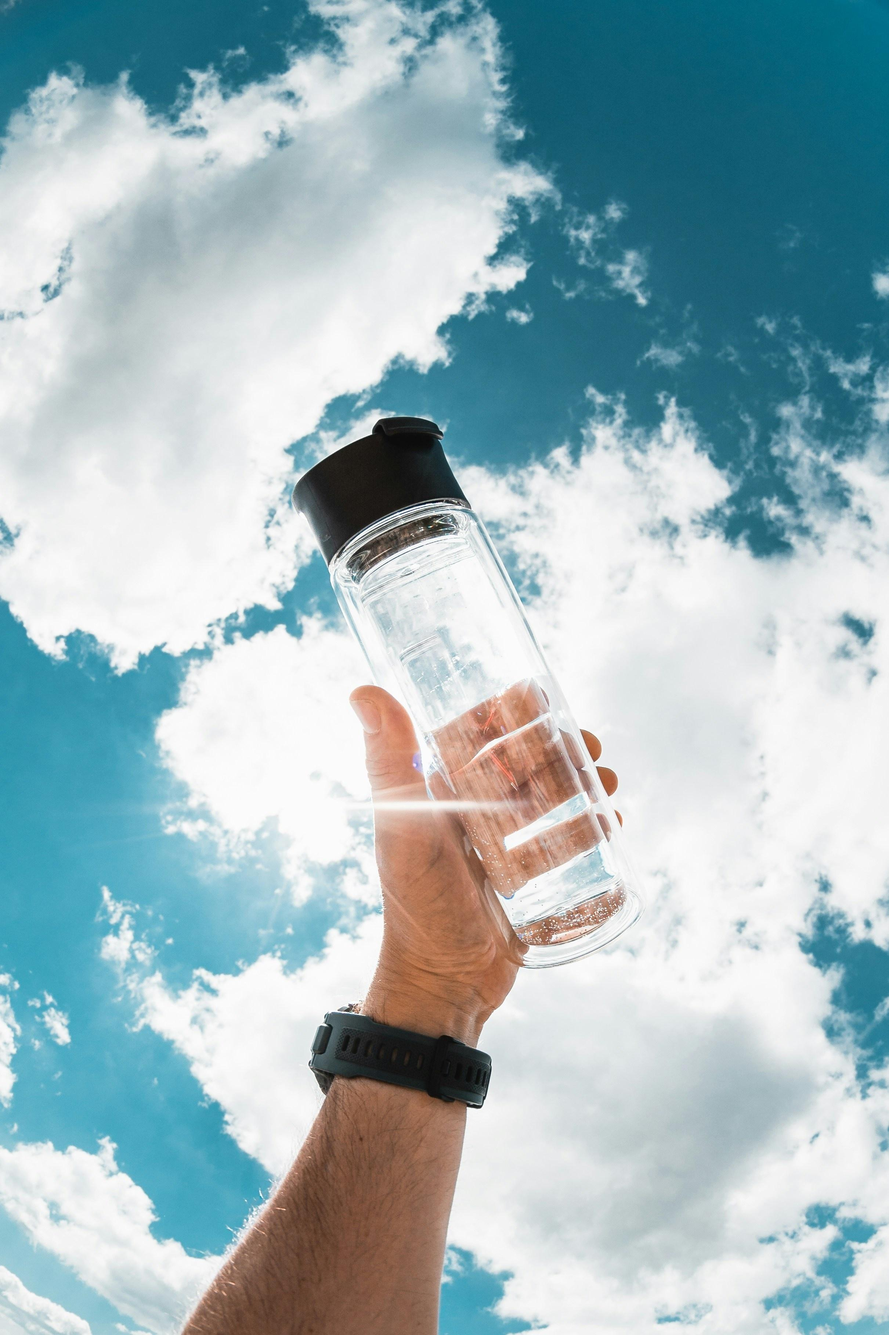Bottle-Detection: (246, 357, 723, 1026)
